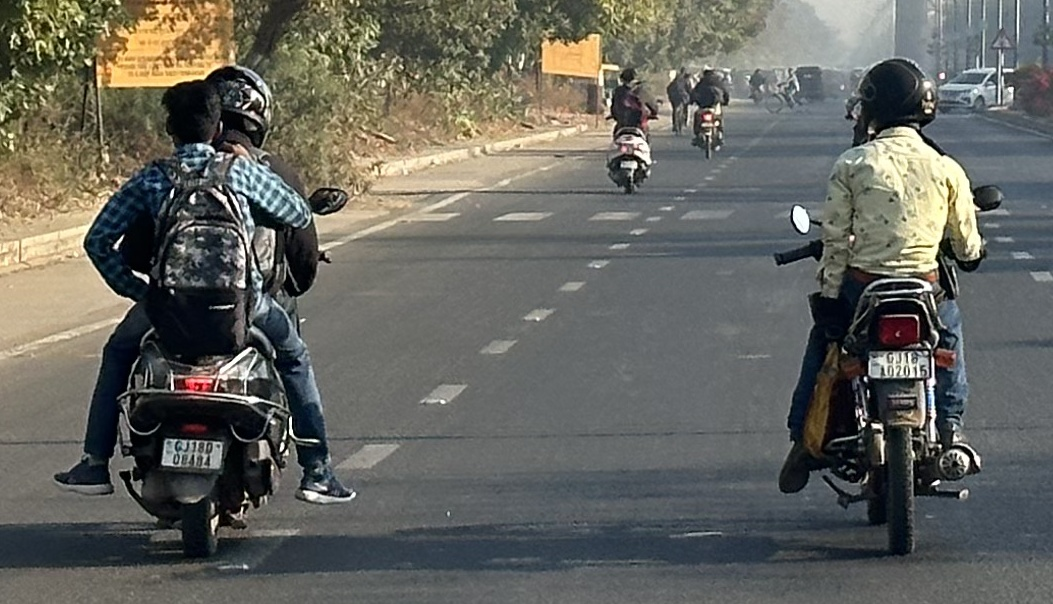BikeWithRider: (44, 52, 361, 565), (763, 45, 1011, 564), (596, 58, 665, 196), (682, 58, 734, 162), (663, 63, 697, 136), (746, 65, 768, 105)
Helmet: (841, 52, 943, 146), (194, 59, 282, 155)
NoHelmet: (150, 71, 229, 154), (615, 59, 646, 88)
